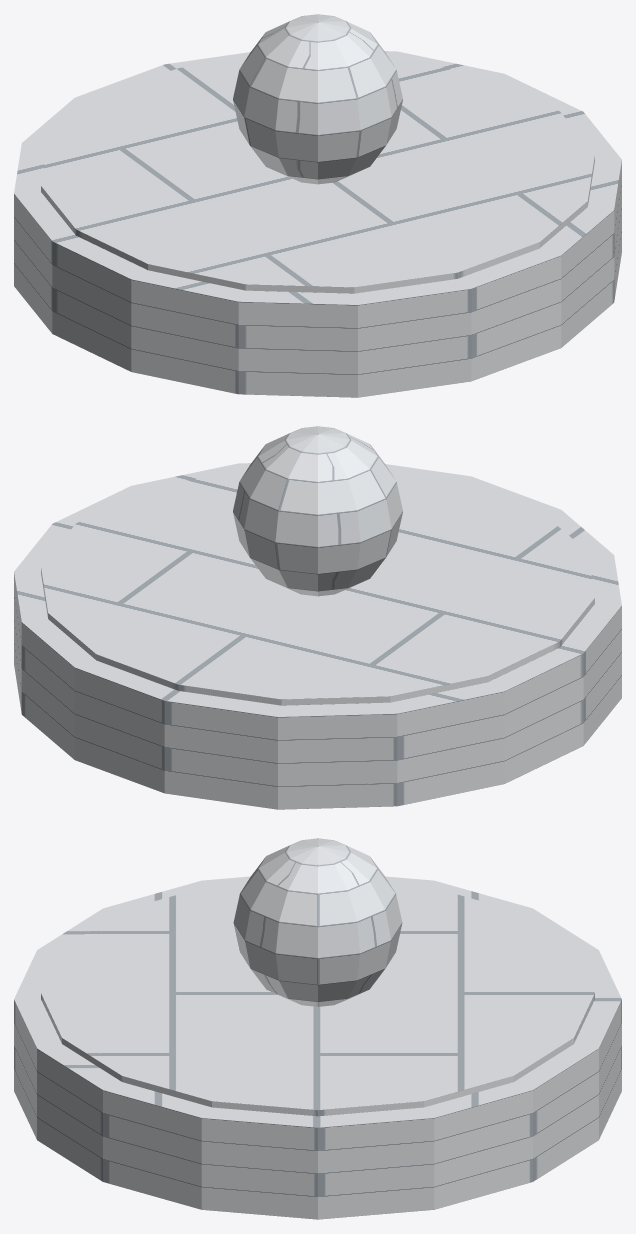
File: prop_fountain.glb
The picture shows the model from 3 angles, top to bottom: view 1: azimuth 30°, elevation 25°; view 2: azimuth 150°, elevation 25°; view 3: azimuth 270°, elevation 25°; orthographic projection.
Visible parts, largest first — view 1: prop_fountain; view 2: prop_fountain; view 3: prop_fountain.
Boxes of the visible parts, bbox=[...] form: prop_fountain: bbox=[14, 14, 621, 397]; prop_fountain: bbox=[14, 426, 621, 809]; prop_fountain: bbox=[14, 838, 621, 1219].
Size of the model in its own units: 1.8 by 0.8 by 1.8.
Materials: 1 (1 with a texture image).
